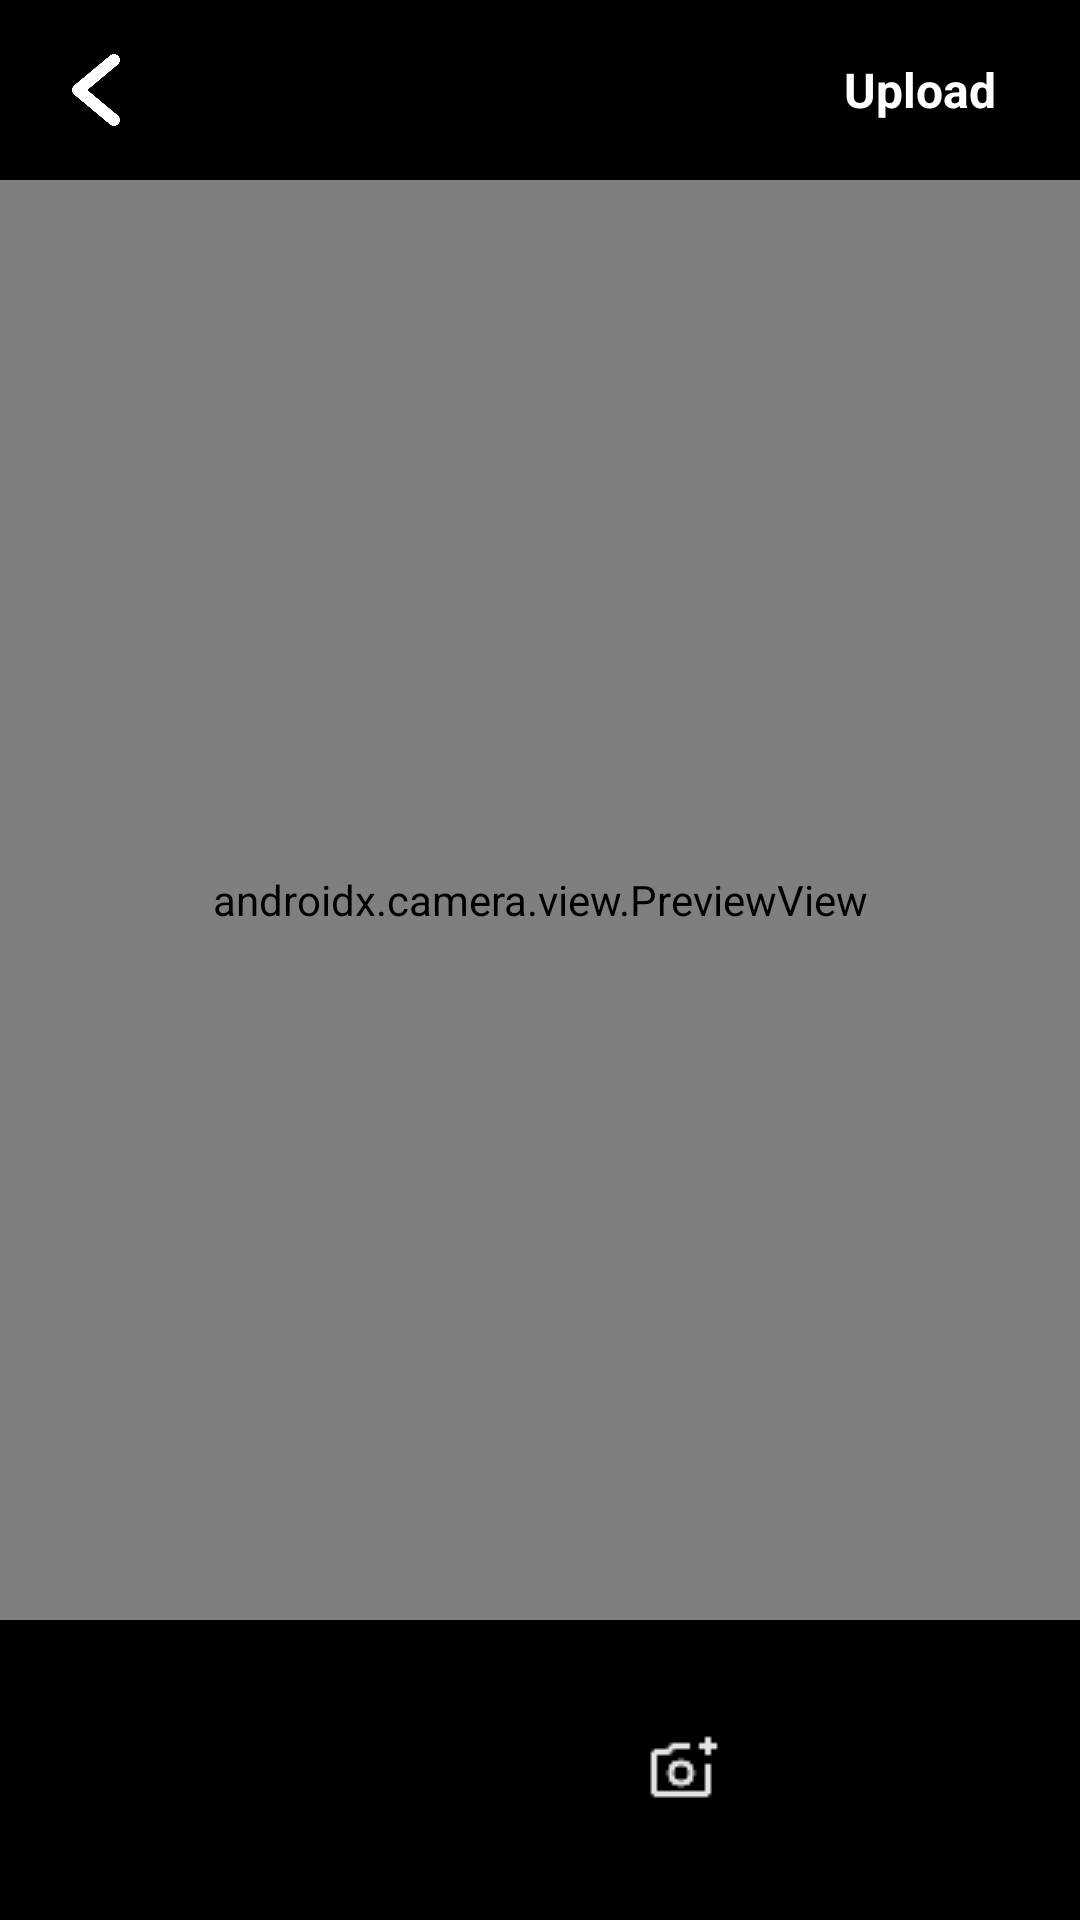

Icon click points for this 1080px×1920px phone screenshot, format (x=x, y=y):
Back: (x=96, y=90)
Capture: (x=684, y=1767)
